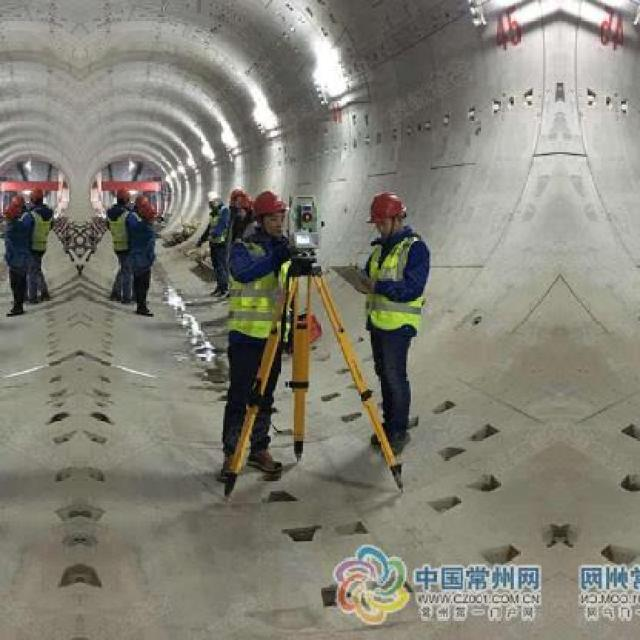helmet: (367, 187, 408, 231), (252, 188, 283, 230), (202, 188, 222, 212), (235, 198, 254, 220), (140, 203, 154, 225), (6, 203, 20, 225), (32, 185, 46, 206), (115, 185, 128, 206), (133, 194, 147, 212), (13, 194, 27, 212)
